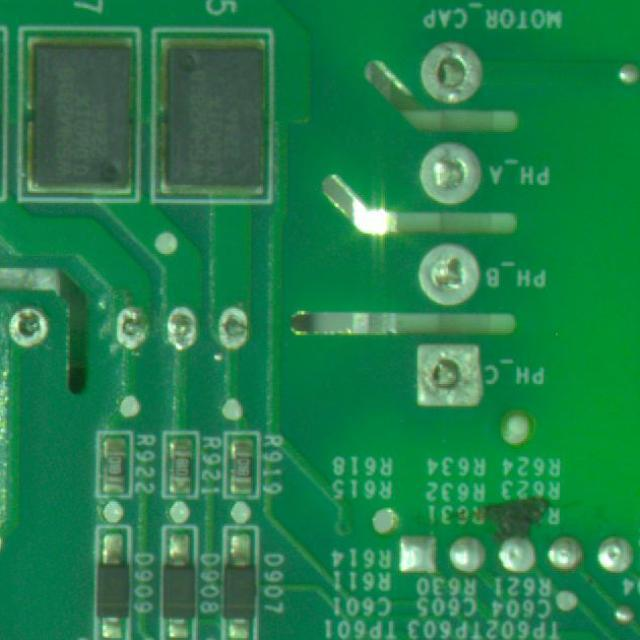Insufficient solder: (408, 234, 487, 306), (410, 340, 484, 410), (403, 144, 490, 203), (414, 39, 486, 110), (108, 288, 150, 356), (214, 298, 254, 362), (162, 297, 200, 358), (9, 304, 56, 350)
